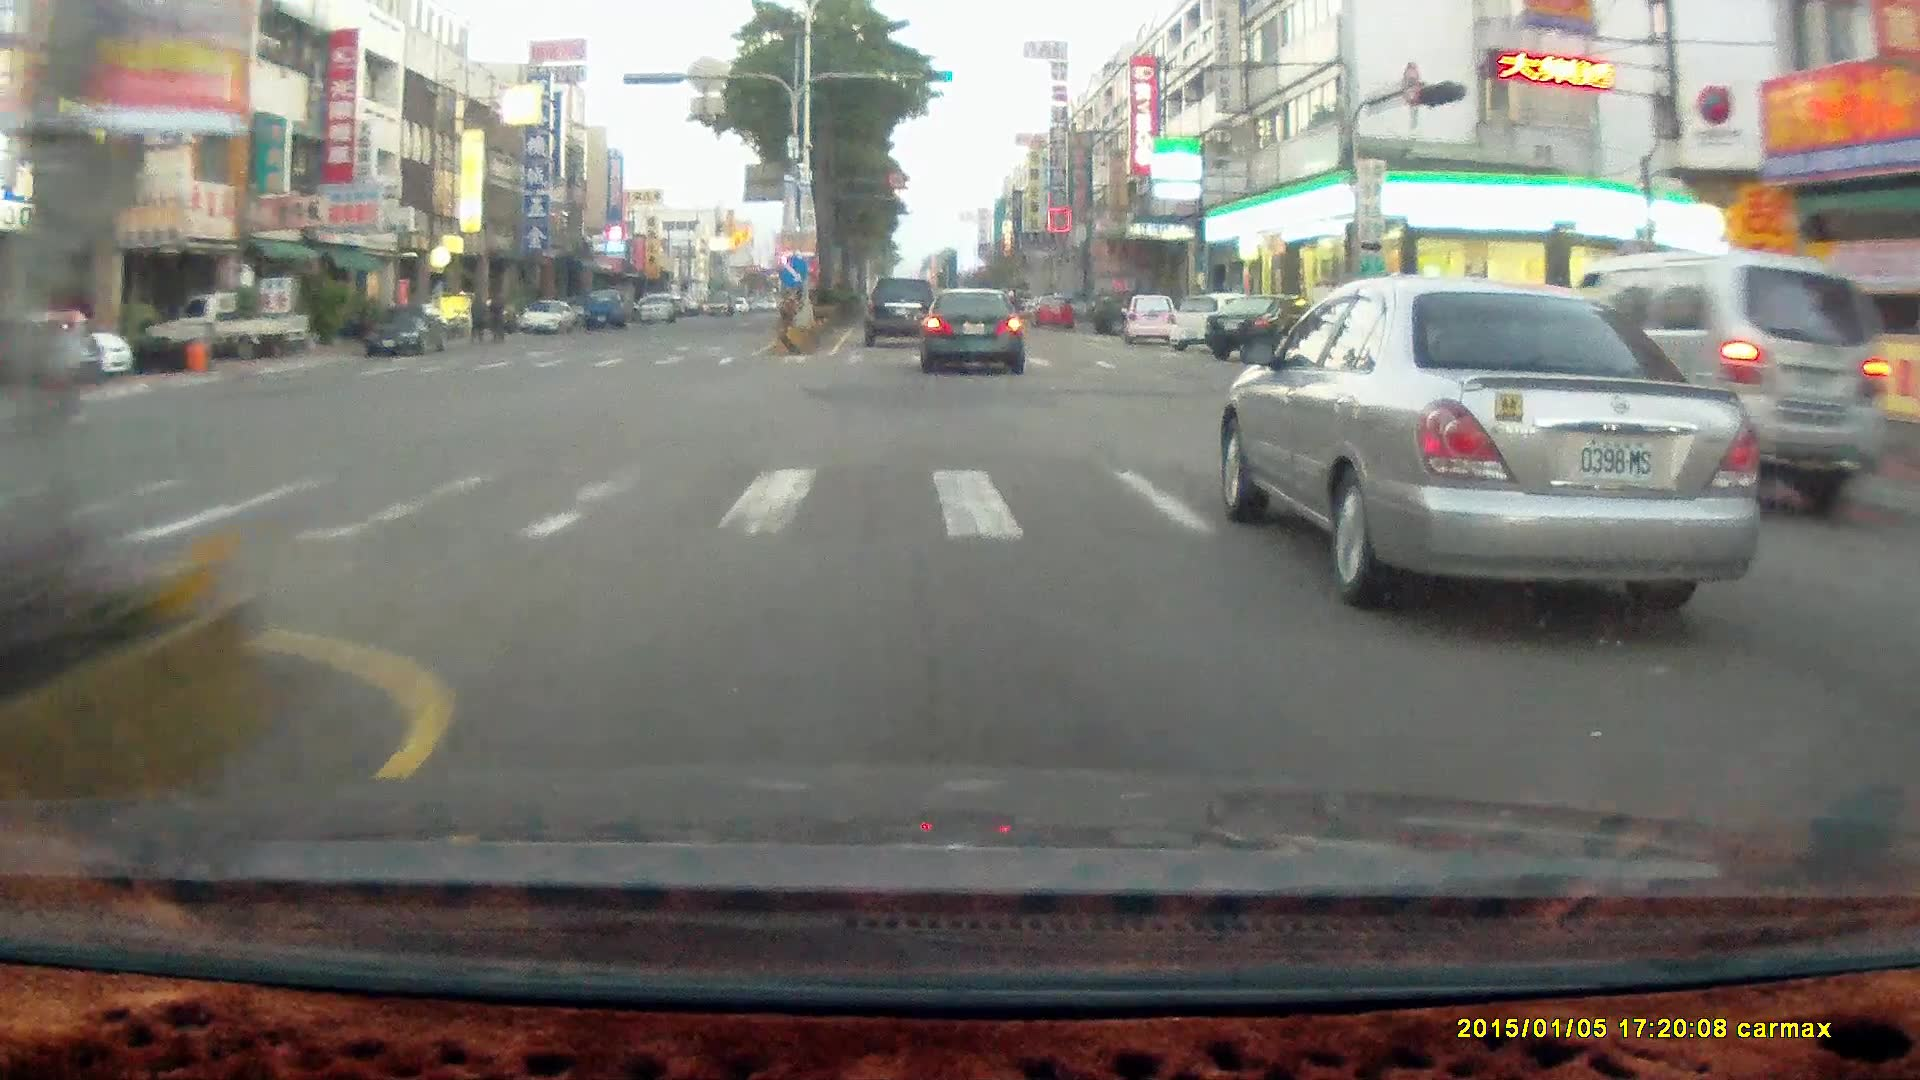pedestrian: (489, 281, 512, 343), (467, 287, 489, 345), (466, 289, 486, 347), (486, 289, 507, 345)
vehicle: (1224, 283, 1762, 603), (1527, 253, 1895, 516), (1528, 255, 1894, 500), (144, 293, 313, 372), (139, 292, 309, 366), (923, 292, 1031, 381), (1, 315, 116, 398), (920, 287, 1024, 376), (1204, 290, 1332, 358), (0, 313, 96, 390), (1209, 295, 1320, 362), (358, 299, 455, 361), (1172, 293, 1267, 354), (862, 275, 936, 352), (863, 276, 939, 347), (365, 308, 447, 356), (1117, 296, 1178, 348), (1090, 290, 1159, 335), (1123, 294, 1178, 347), (518, 300, 579, 337), (517, 301, 572, 334), (582, 288, 622, 328), (1031, 293, 1074, 328), (637, 294, 673, 323)
